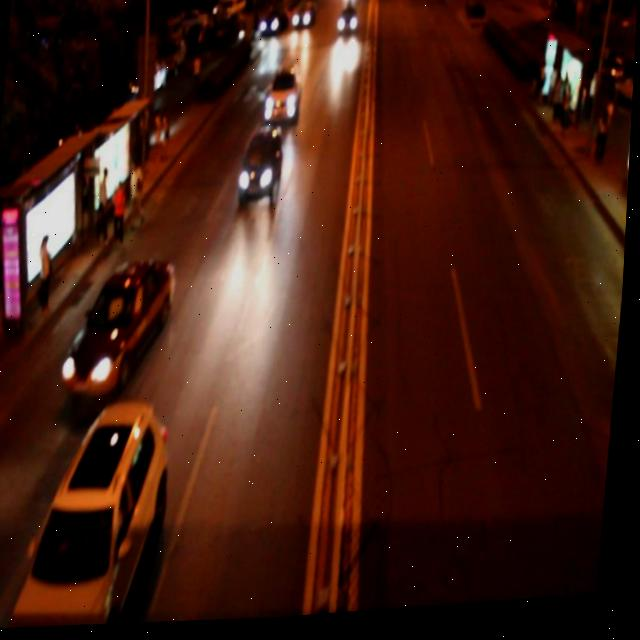car: (16, 397, 179, 633), (66, 254, 180, 401), (238, 126, 286, 206), (264, 68, 303, 129), (289, 2, 317, 34), (333, 7, 358, 40)
